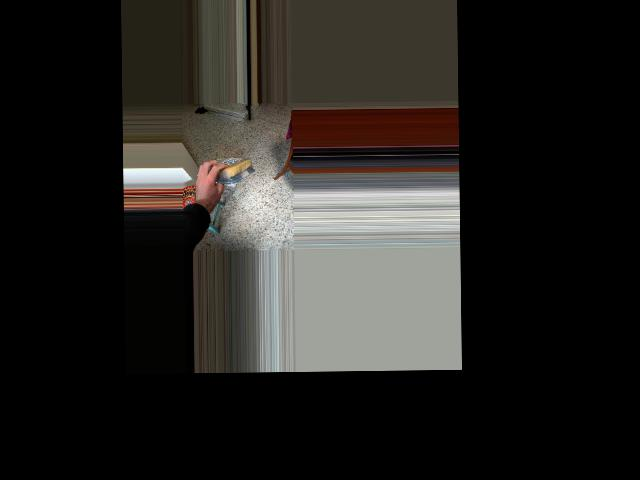cheese: (208, 156, 255, 180)
